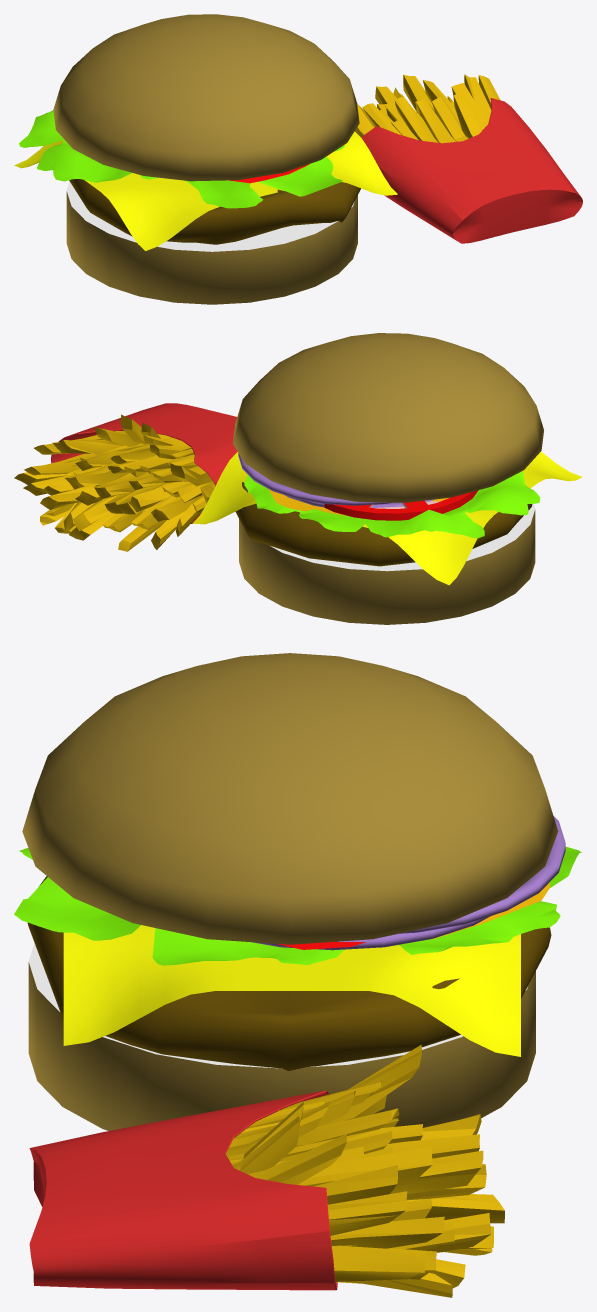
The model's file is Fries.dae.
The picture shows the model from 3 angles, top to bottom: view 1: azimuth 30°, elevation 25°; view 2: azimuth 150°, elevation 25°; view 3: azimuth 270°, elevation 25°; orthographic projection. The views are drawn at different scales.
Visible parts, largest first — view 1: SketchUp (×12), group_1, group_5, chamfer, group_2; view 2: group_1, SketchUp (×23), chamfer, group_5, group_2, group_9, group_6, group_7; view 3: group_1, SketchUp (×21), group_5, chamfer, group_2, group_6, group_3.
Part boxes in pixels (x1,y1,x2,y2): SketchUp (×12): (66,74,582,304); group_1: (53,14,359,181); group_5: (14,131,397,250); chamfer: (69,179,360,244); group_2: (19,110,344,208); group_1: (233,333,543,502); SketchUp (×23): (23,403,535,624); chamfer: (235,482,532,566); group_5: (192,452,582,585); group_2: (244,471,540,538); group_9: (324,490,478,520); group_6: (238,453,391,505); group_7: (268,485,495,515); group_1: (22,653,558,944); SketchUp (×21): (28,943,535,1297); group_5: (63,925,520,1056); chamfer: (27,876,551,1070); group_2: (14,846,581,965); group_6: (400,816,565,933); group_3: (253,916,490,950).
Bounding box in the file's own units: 188 × 110 × 77.48.
